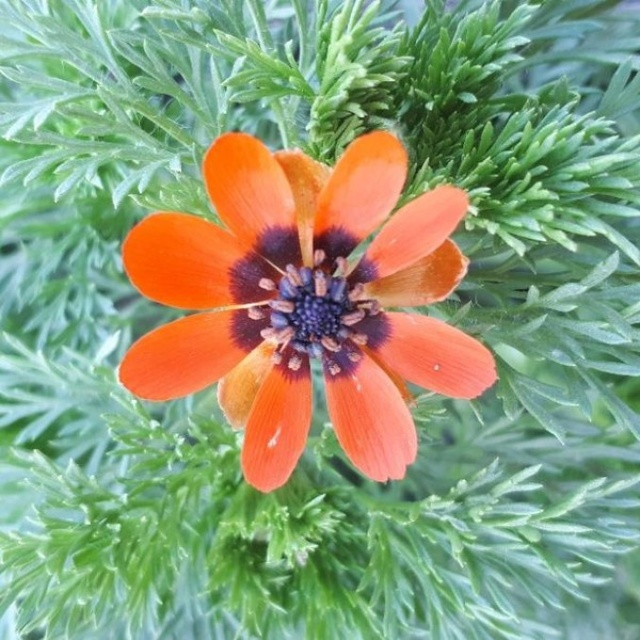obstacle: (32, 47, 582, 555)
